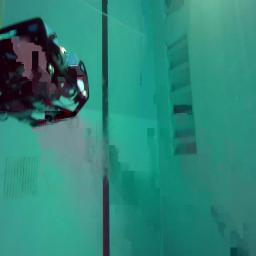front: (0, 17, 90, 128)
